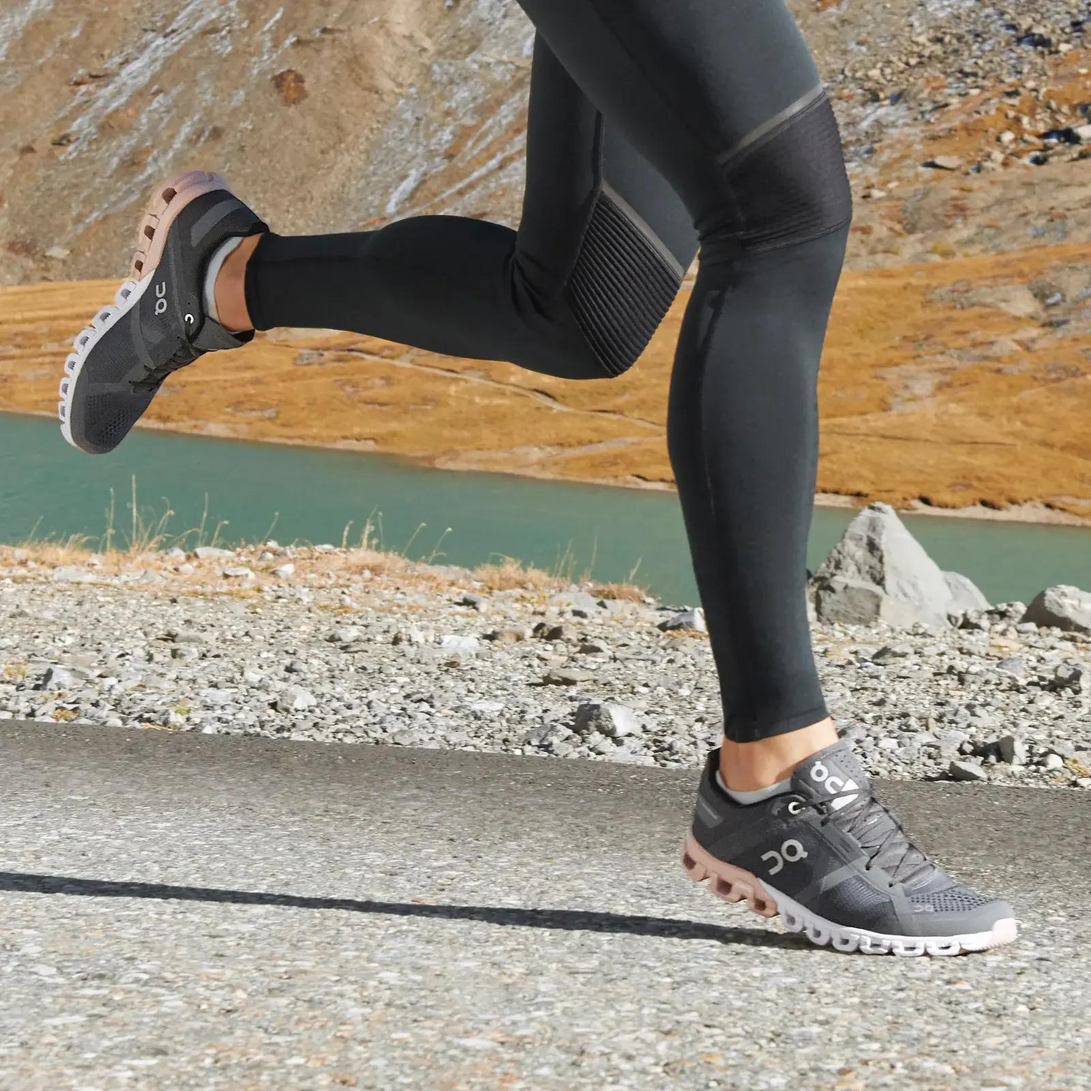OC_logo: (736, 820, 829, 896), (140, 270, 180, 341)
